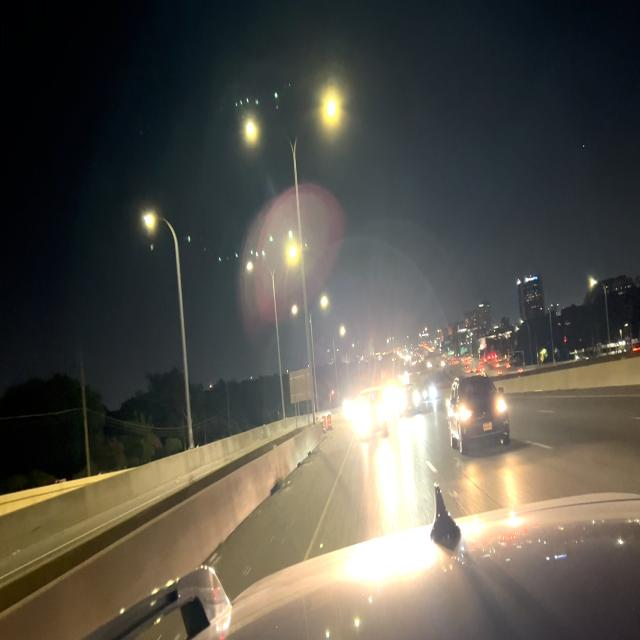back-of-sign: (288, 364, 315, 408)
